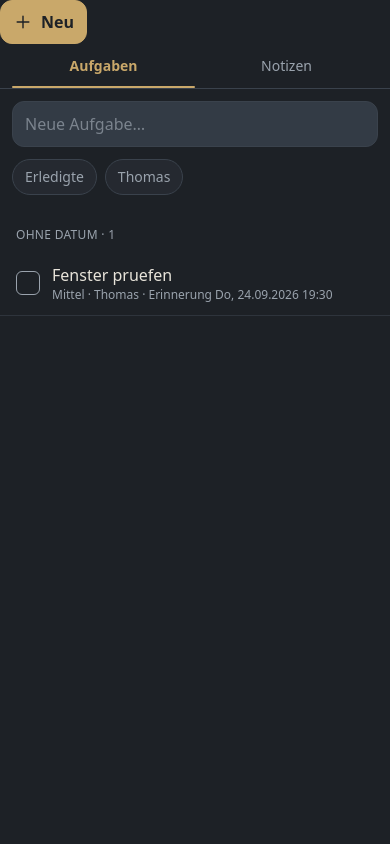
tasks page › offers only the people who already have tasks as assignee chips
Click the button "Neu" at point(44, 22), box [0, 0, 87, 44]
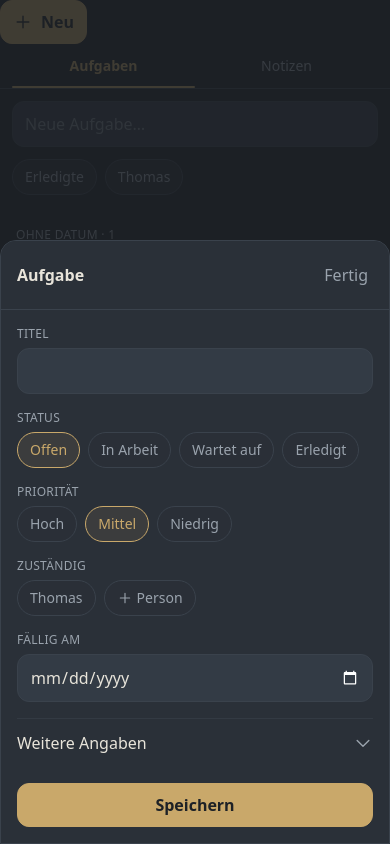
Expected: the button "Person" is shown, [104, 580, 196, 616]
